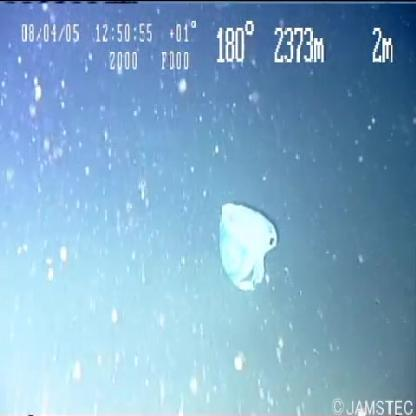Rác: (210, 190, 315, 305)
